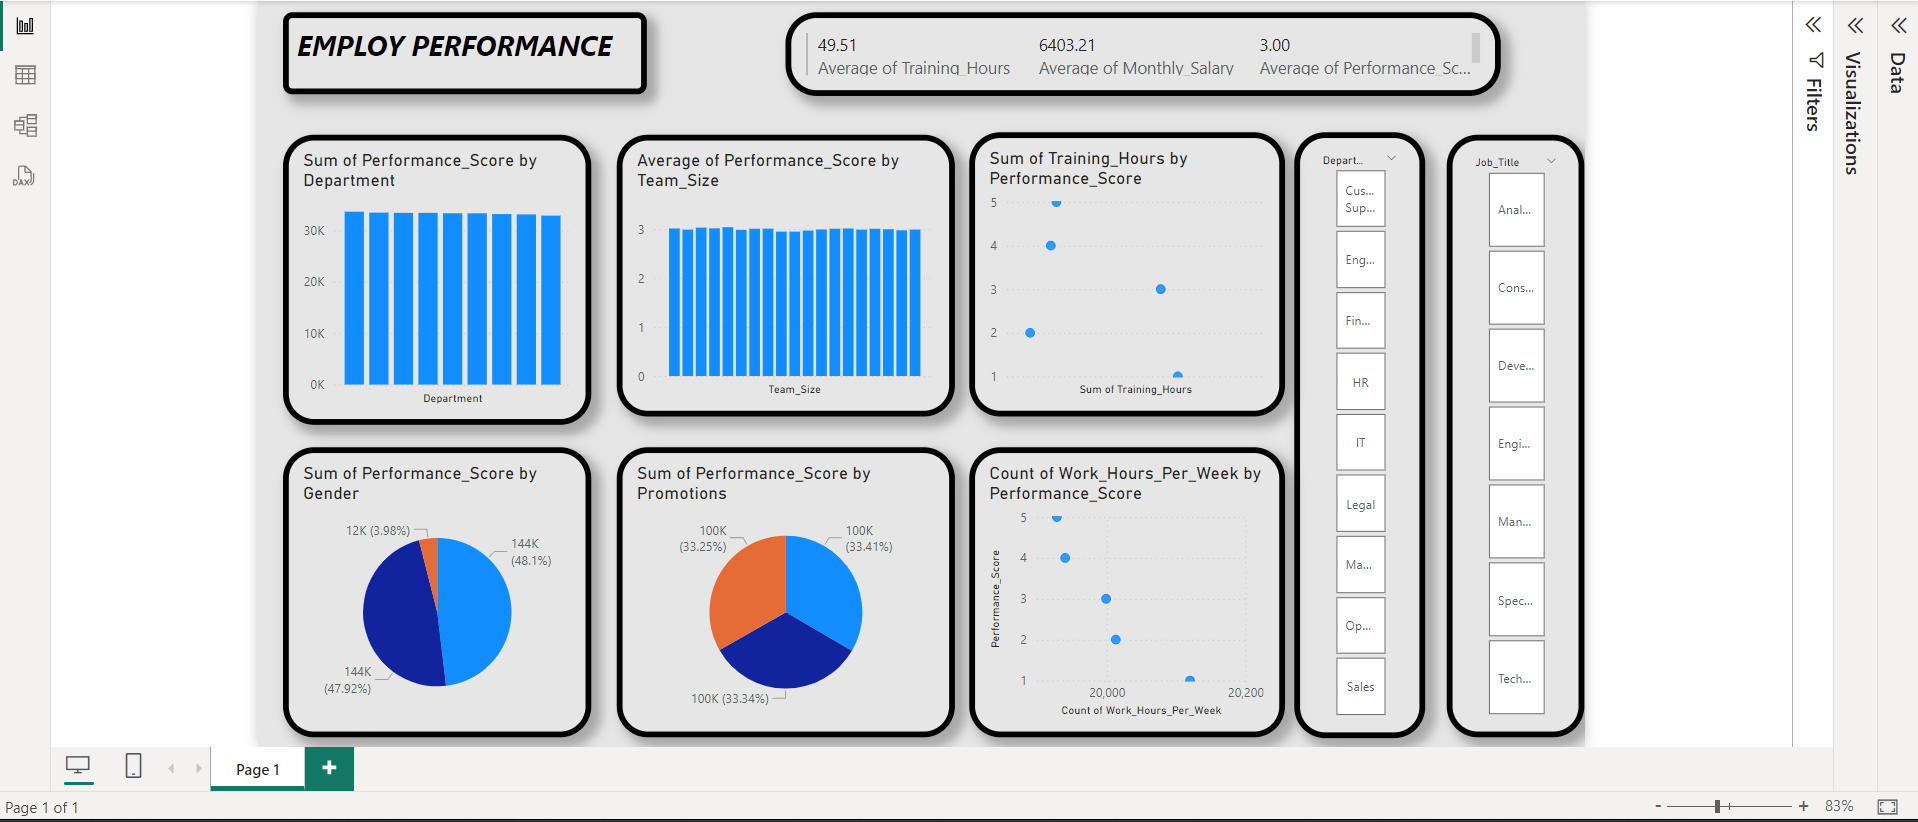

The page's visual inventory and layout, read from the dashboard file:
{"tool":"powerbi","page":{"name":"Page 1","canvas":[1280,720],"ordinal":0},"visuals":[{"type":"columnChart","fields":{"Y":["Sum(Extended_Employee_Performance_and_Productivity_Data.Performance_Score)"],"Category":["Extended_Employee_Performance_and_Productivity_Data.Department"]},"box":[24.7,129,297.8,279.9],"z":0},{"type":"pieChart","fields":{"Category":["Extended_Employee_Performance_and_Productivity_Data.Gender"],"Y":["Sum(Extended_Employee_Performance_and_Productivity_Data.Performance_Score)"]},"box":[24.7,430.9,297.8,279.9],"z":1},{"type":"columnChart","fields":{"Y":["Avg(Extended_Employee_Performance_and_Productivity_Data.Performance_Score)"],"Category":["Extended_Employee_Performance_and_Productivity_Data.Team_Size"]},"box":[345.8,129,326.6,271.7],"z":2},{"type":"pieChart","fields":{"Category":["Extended_Employee_Performance_and_Productivity_Data.Promotions"],"Y":["Sum(Extended_Employee_Performance_and_Productivity_Data.Performance_Score)"]},"box":[345.8,430.9,326.6,279.9],"z":3},{"type":"scatterChart","fields":{"X":["CountNonNull(Extended_Employee_Performance_and_Productivity_Data.Work_Hours_Per_Week)"],"Y":["Extended_Employee_Performance_and_Productivity_Data.Performance_Score"]},"box":[686.1,430.9,304.6,279.9],"z":4},{"type":"scatterChart","fields":{"X":["Sum(Extended_Employee_Performance_and_Productivity_Data.Training_Hours)"],"Y":["Extended_Employee_Performance_and_Productivity_Data.Performance_Score"]},"box":[686.1,126.2,304.6,274.4],"z":5},{"type":"slicer","fields":{"Values":["Extended_Employee_Performance_and_Productivity_Data.Job_Title"]},"box":[1147.2,129,133.1,581.8],"z":6},{"type":"slicer","fields":{"Values":["Extended_Employee_Performance_and_Productivity_Data.Department"]},"box":[1000.3,126.2,126.2,584.6],"z":7},{"type":"textbox","box":[24.7,11,351.3,79.6],"z":8},{"type":"multiRowCard","fields":{"Values":["Avg(Extended_Employee_Performance_and_Productivity_Data.Training_Hours)","Avg(Extended_Employee_Performance_and_Productivity_Data.Monthly_Salary)","Avg(Extended_Employee_Performance_and_Productivity_Data.Performance_Score)"]},"box":[509.1,11,690.2,81],"z":9}]}

Visuals, with their boxes on the page's 1280x720 design canvas (x1, y1, x2, y2). These are canvas units, not pixel positions in the 1918x822 screenshot, which may show the page scaled, cropped or inside an application window:
columnChart - Sum(Extended_Employee_Performance_and_Productivity_Data.Performance_Score) x Extended_Employee_Performance_and_Productivity_Data.Department: left=25, top=129, right=322, bottom=409
pieChart - Extended_Employee_Performance_and_Productivity_Data.Gender x Sum(Extended_Employee_Performance_and_Productivity_Data.Performance_Score): left=25, top=431, right=322, bottom=711
columnChart - Avg(Extended_Employee_Performance_and_Productivity_Data.Performance_Score) x Extended_Employee_Performance_and_Productivity_Data.Team_Size: left=346, top=129, right=672, bottom=401
pieChart - Extended_Employee_Performance_and_Productivity_Data.Promotions x Sum(Extended_Employee_Performance_and_Productivity_Data.Performance_Score): left=346, top=431, right=672, bottom=711
scatterChart - CountNonNull(Extended_Employee_Performance_and_Productivity_Data.Work_Hours_Per_Week) x Extended_Employee_Performance_and_Productivity_Data.Performance_Score: left=686, top=431, right=991, bottom=711
scatterChart - Sum(Extended_Employee_Performance_and_Productivity_Data.Training_Hours) x Extended_Employee_Performance_and_Productivity_Data.Performance_Score: left=686, top=126, right=991, bottom=401
slicer - Extended_Employee_Performance_and_Productivity_Data.Job_Title: left=1147, top=129, right=1280, bottom=711
slicer - Extended_Employee_Performance_and_Productivity_Data.Department: left=1000, top=126, right=1126, bottom=711
textbox: left=25, top=11, right=376, bottom=91
multiRowCard - Avg(Extended_Employee_Performance_and_Productivity_Data.Training_Hours) x Avg(Extended_Employee_Performance_and_Productivity_Data.Monthly_Salary): left=509, top=11, right=1199, bottom=92
